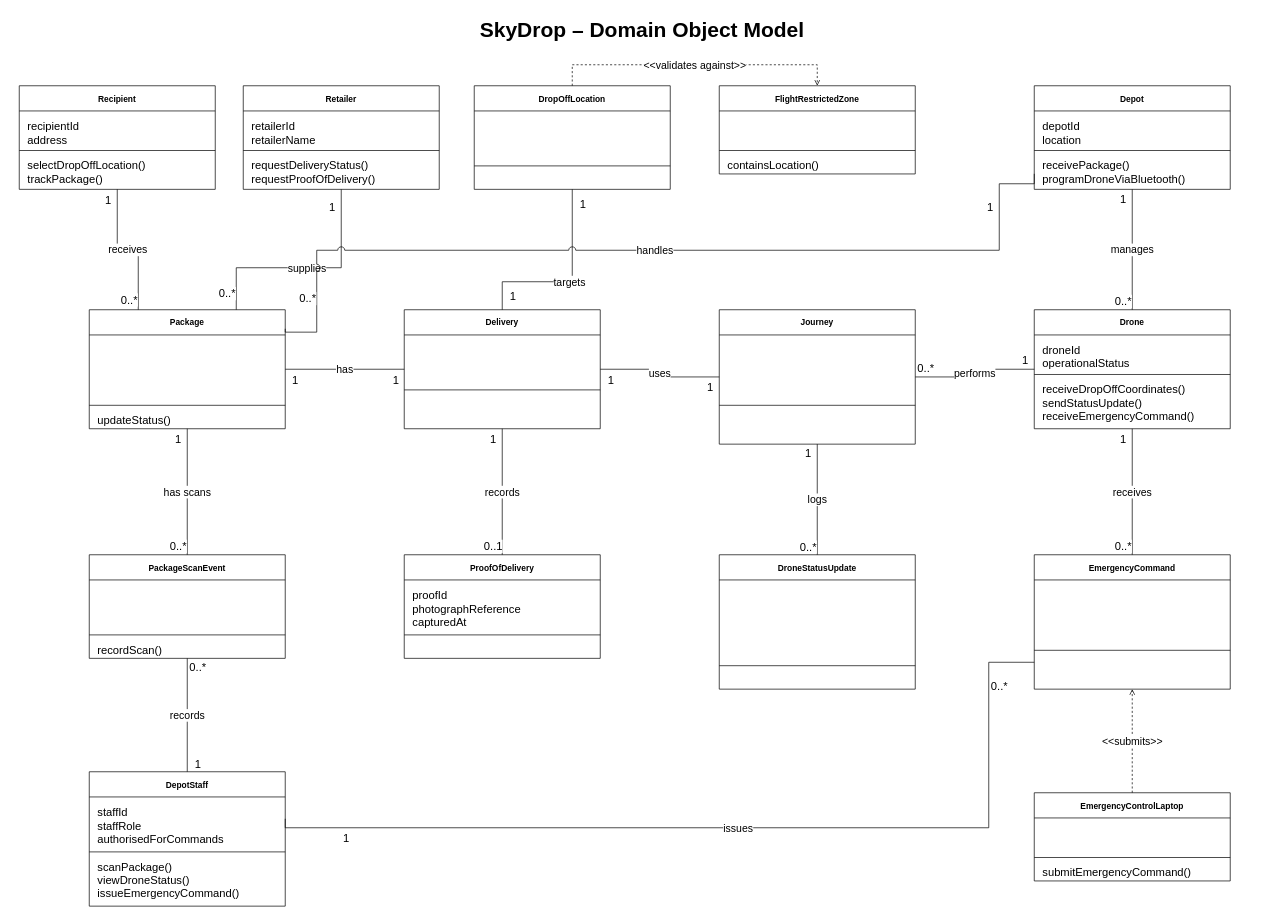
Some shapes in this 1284 by 918 pixel diagram are drawn without their labels. Here are the shapes that lost their labels. From the top down, the centre of each, then its label:
At (x=572, y=138): "latitude longitude groundLevelConfirmed".
At (x=817, y=130): "zoneId boundary".
At (x=572, y=177): "validateLocation()".
At (x=187, y=370): "trackingReference currentStatus weight dimensions".
At (x=502, y=362): "deliveryId status deliveredAt".
At (x=817, y=370): "journeyId startTime endTime status".
At (x=502, y=408): "validateDelivery() confirmDelivery()".
At (x=817, y=424): "startJourney() completeJourney()".
At (x=187, y=607): "scanEventId eventType eventTime".
At (x=817, y=622): "recordedAt latitude, longitude altitude, heading airspeed healthData".
At (x=1132, y=615): "commandId commandType issuedAt status".
At (x=502, y=646): "storePhotograph()".
At (x=817, y=677): "recordStatus()".
At (x=1132, y=669): "queueCommand() dispatchCommand()".
At (x=1132, y=837): "batteryPowered connectionType = 4G".
